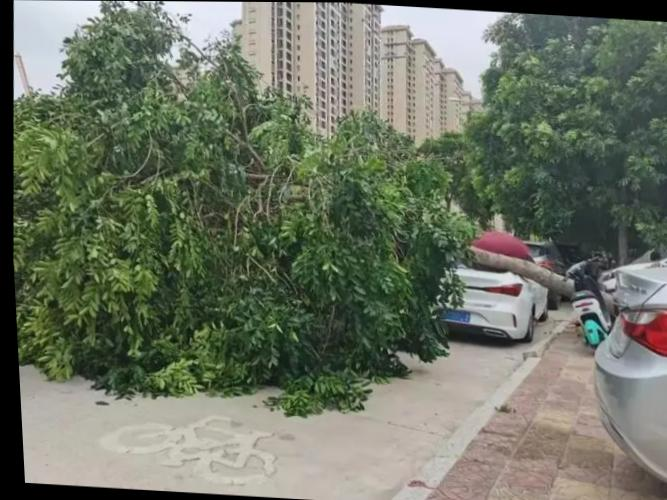Downstairs: (0, 0, 479, 422), (446, 228, 617, 315)
